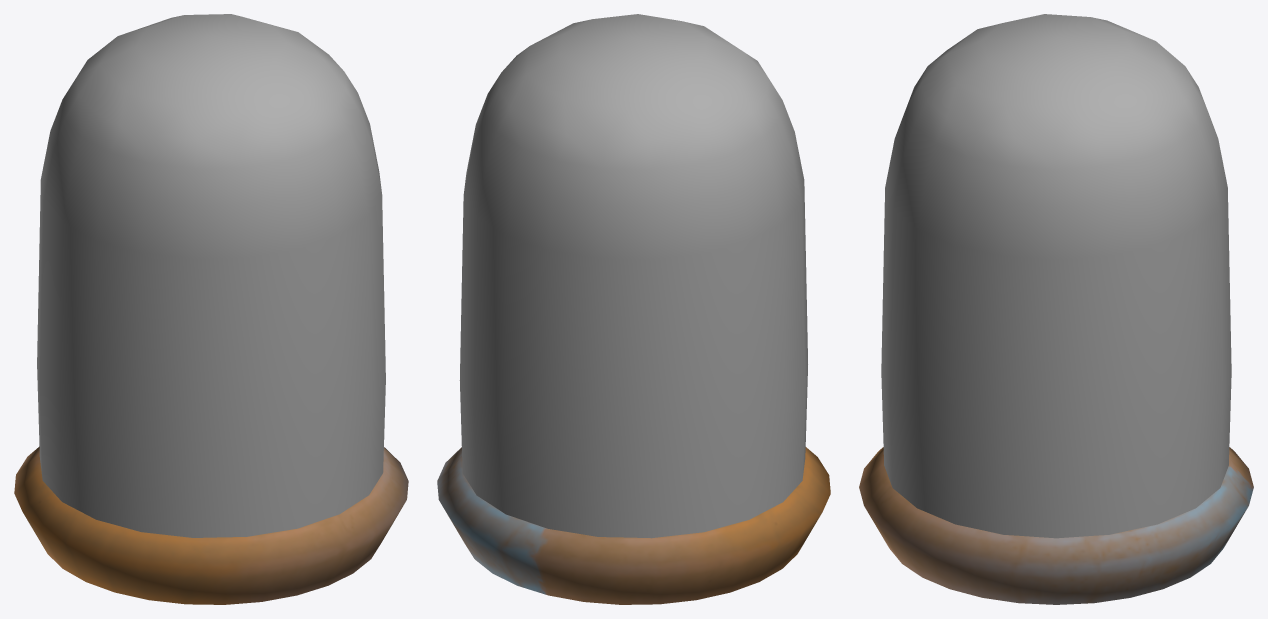
File: SM_Potion_Props_Terrarium_02_A.fbx
The picture shows the model from 3 angles, left to right: view 1: azimuth 30°, elevation 25°; view 2: azimuth 150°, elevation 25°; view 3: azimuth 270°, elevation 25°; orthographic projection.
Parts seen in each view (by area): view 1: SM_Potion_Props_Terrarium_02_A_LOD0; view 2: SM_Potion_Props_Terrarium_02_A_LOD0; view 3: SM_Potion_Props_Terrarium_02_A_LOD0.
Part boxes in pixels (box(x1,y1,x2,y2)): SM_Potion_Props_Terrarium_02_A_LOD0: box(14, 14, 408, 604); SM_Potion_Props_Terrarium_02_A_LOD0: box(437, 14, 830, 604); SM_Potion_Props_Terrarium_02_A_LOD0: box(859, 14, 1253, 604).
Size of what is drawn, in the model's own units: 14.78 by 20.6 by 14.78.
